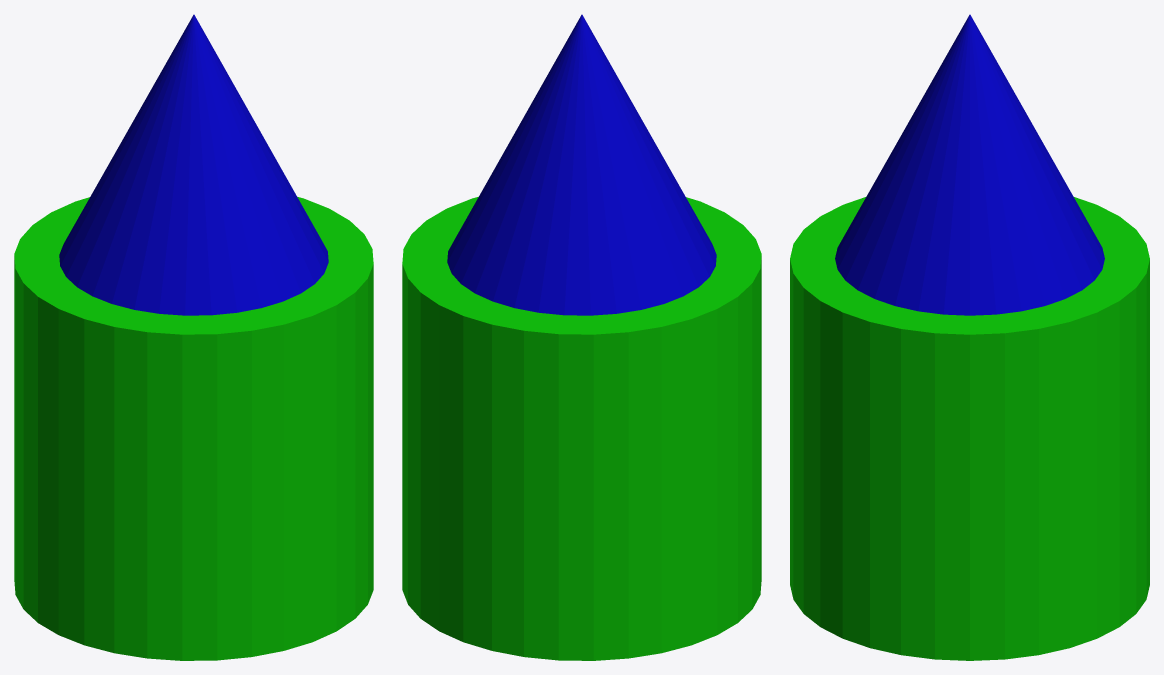
The model's file is testing_obj.obj.
3 renders of one model, left to right at view 1: azimuth 30°, elevation 25°; view 2: azimuth 150°, elevation 25°; view 3: azimuth 270°, elevation 25°, orthographic.
Parts seen in each view (by area): view 1: Cylinder, Cone; view 2: Cylinder, Cone; view 3: Cylinder, Cone.
Boxes of the visible parts, x1,y1,x2,y2 form: Cylinder: [14, 197, 373, 660]; Cone: [59, 14, 328, 315]; Cylinder: [402, 197, 761, 660]; Cone: [447, 14, 716, 315]; Cylinder: [790, 197, 1149, 660]; Cone: [835, 14, 1104, 315].
Bounding box in the file's own units: 2 × 3.5 × 2.
